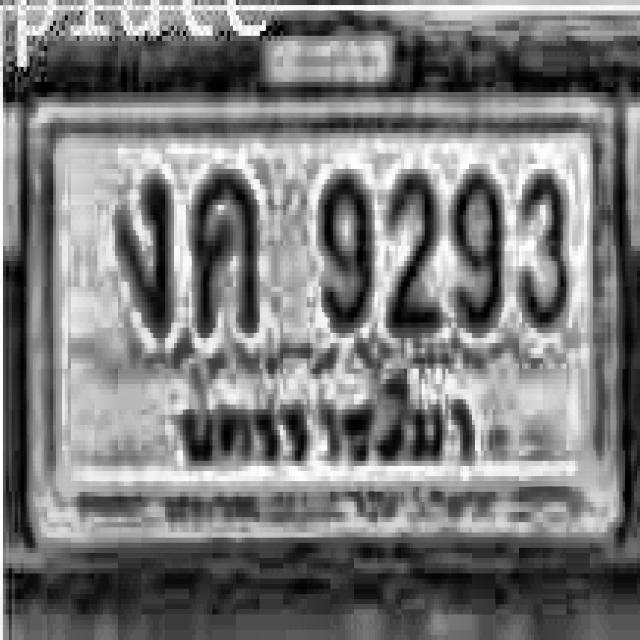license-plate: (21, 80, 633, 572)
